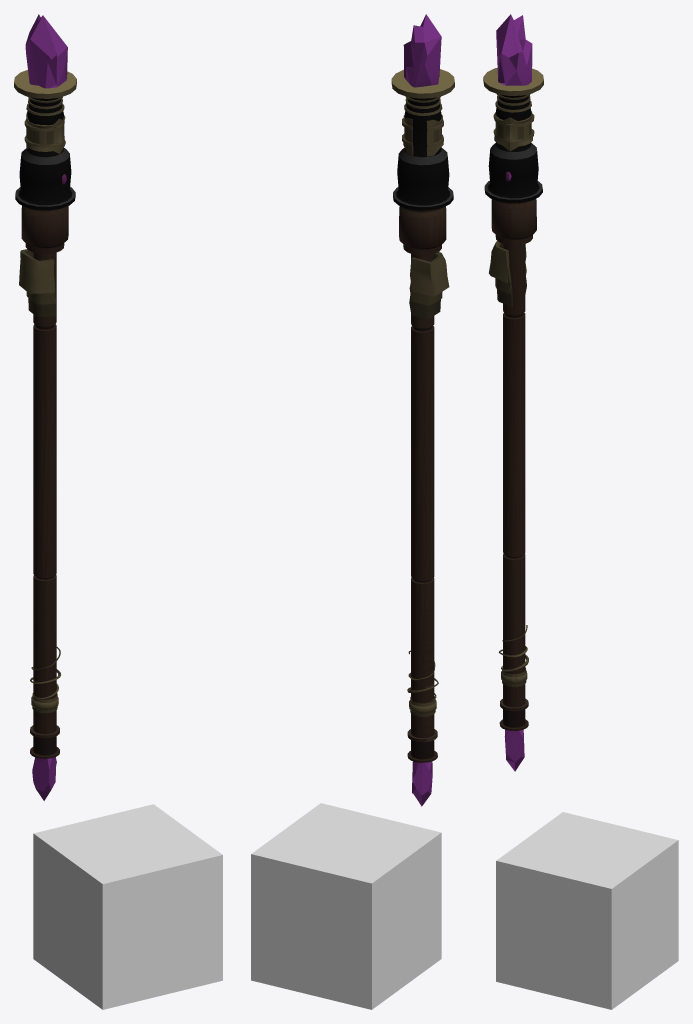
The model's file is Weapon_Enemy_Texture2.fbx.
3 views of the same model, side by side, from view 1: azimuth 30°, elevation 25°; view 2: azimuth 150°, elevation 25°; view 3: azimuth 330°, elevation 25° (orthographic). The views are drawn at different scales.
Parts seen in each view (by area): view 1: Cube.001, Cylinder.002; view 2: Cube.001, Cylinder.002; view 3: Cube.001, Cylinder.002.
Boxes of the visible parts, x1,y1,x2,y2 form: Cube.001: [33, 804, 222, 1009]; Cylinder.002: [14, 14, 76, 800]; Cube.001: [251, 803, 441, 1009]; Cylinder.002: [391, 14, 454, 806]; Cube.001: [496, 812, 678, 1009]; Cylinder.002: [483, 14, 543, 771].
Size of the model in its own units: 278 by 1547 by 200.
1 material, 1 textured.
